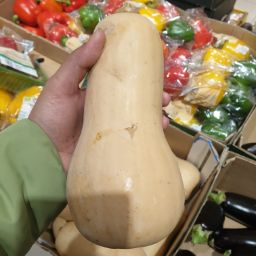Butternut Squash: (8, 18, 197, 256), (79, 10, 184, 250)
